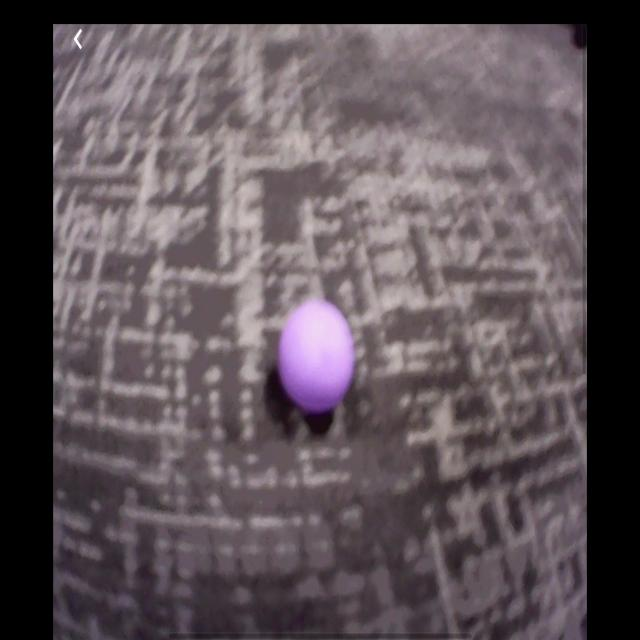ball: (280, 299, 356, 412)
